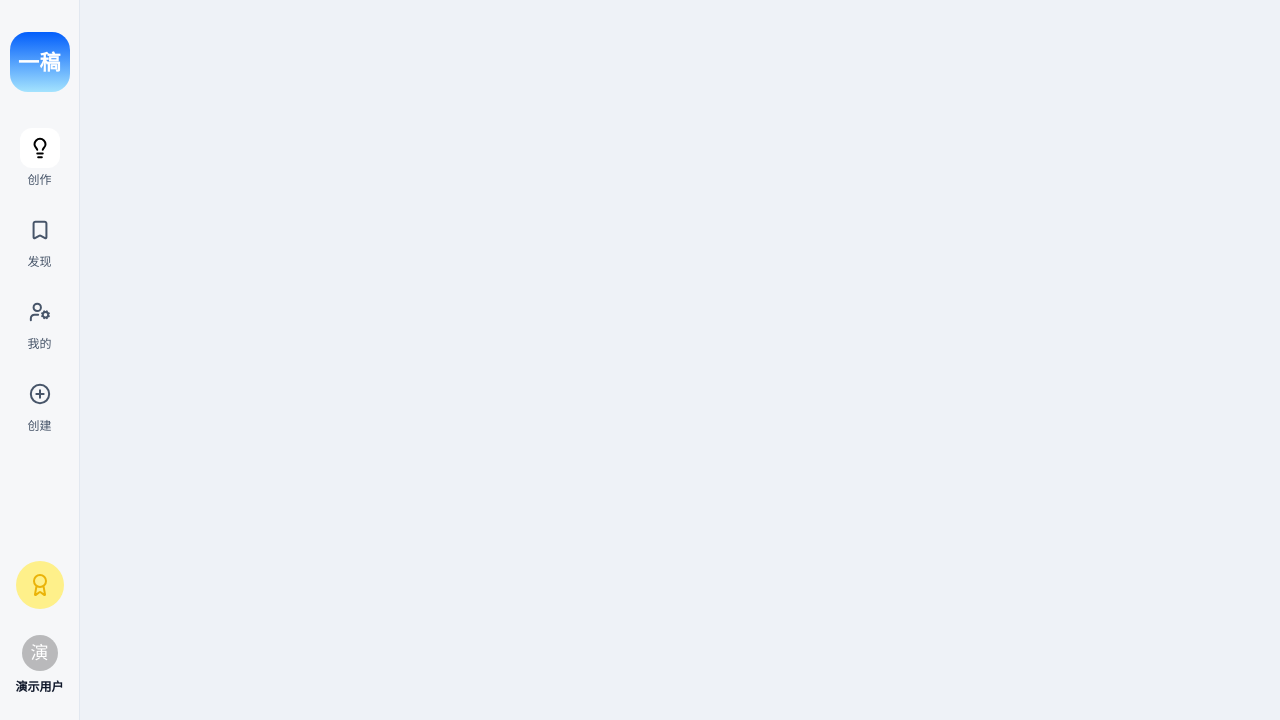
Test: Sidebar › 点击用户信息按钮打开个人信息弹框
Click the button with aria-label "用户信息": coordinates (40, 664) 10,629 -> 70,700
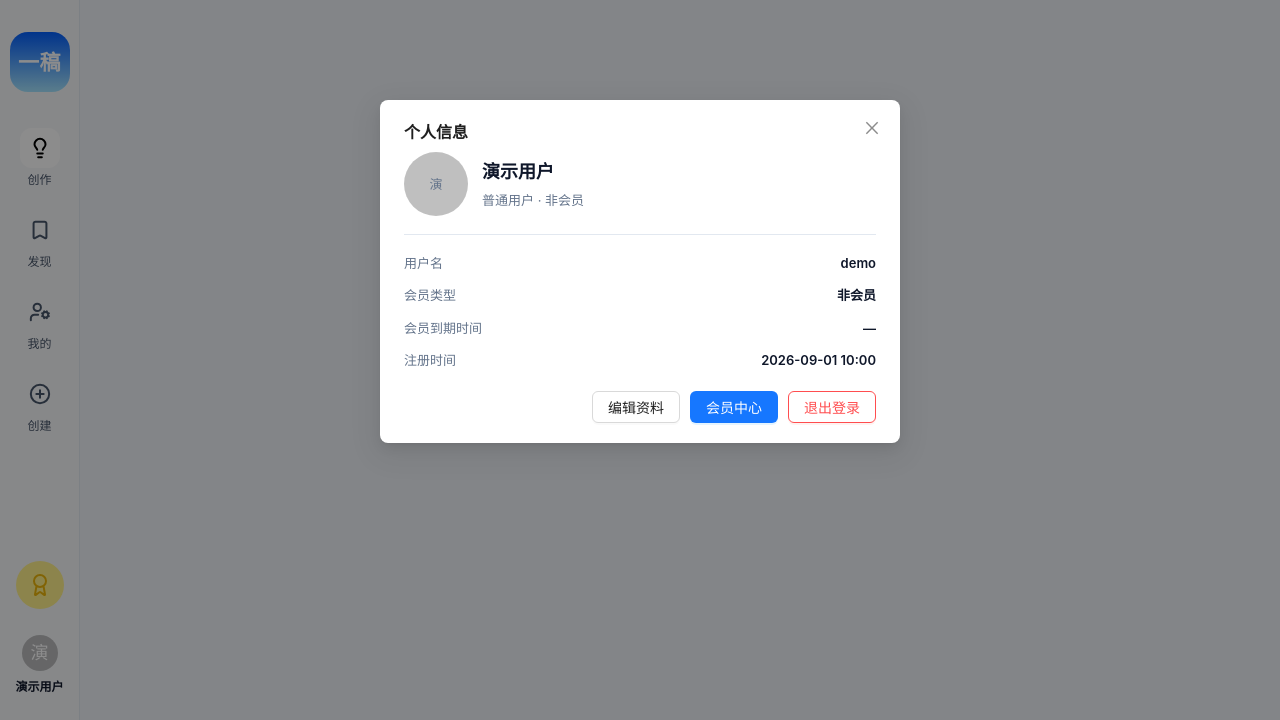
Check: the dialog "个人信息" is shown, box 380,100 -> 900,467
Check: the text "普通用户 · 非会员" is shown, box 482,190 -> 584,210
Check: the text "会员中心" is shown, box 706,397 -> 762,417
